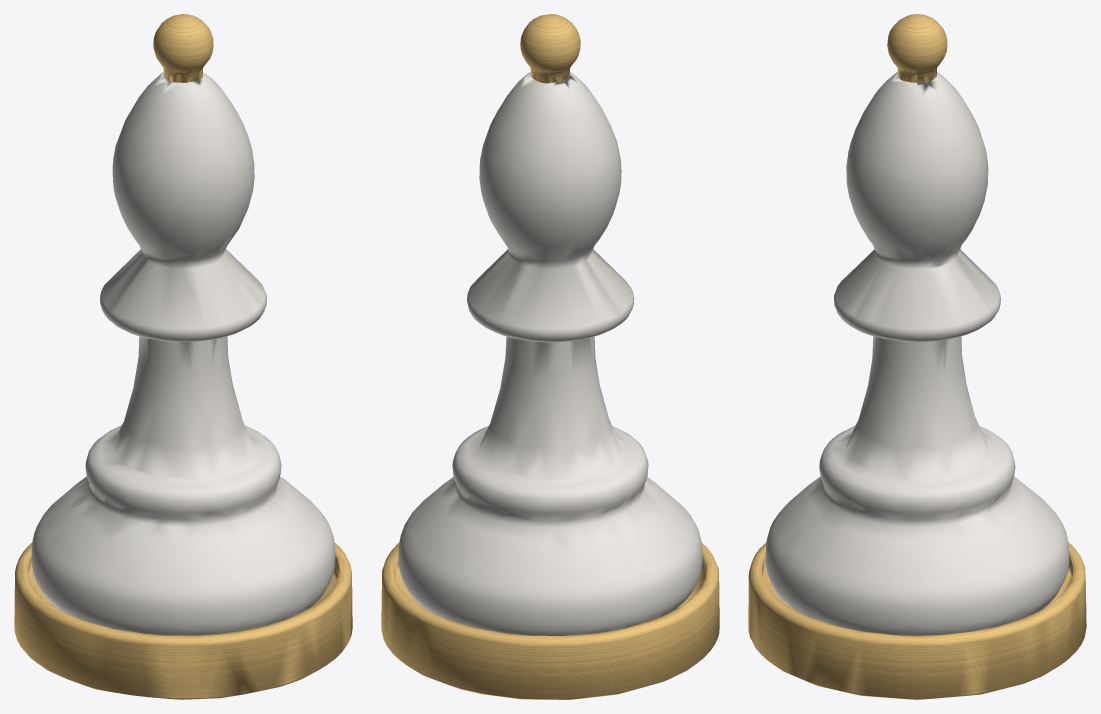
Rendered from bishop-white.glb.
3 views of the same model, side by side, from view 1: azimuth 30°, elevation 25°; view 2: azimuth 150°, elevation 25°; view 3: azimuth 270°, elevation 25° (orthographic).
Visible parts, largest first — view 1: Aurum Ivoire – Bishop; view 2: Aurum Ivoire – Bishop; view 3: Aurum Ivoire – Bishop.
Part boxes in pixels (left/top/right/bottom): Aurum Ivoire – Bishop: left=14, top=14, right=352, bottom=699; Aurum Ivoire – Bishop: left=381, top=14, right=719, bottom=699; Aurum Ivoire – Bishop: left=748, top=14, right=1086, bottom=699.
Size of the model in its own units: 0.6607 by 1.32 by 0.6604.
Materials: 2 (1 with a texture image).
